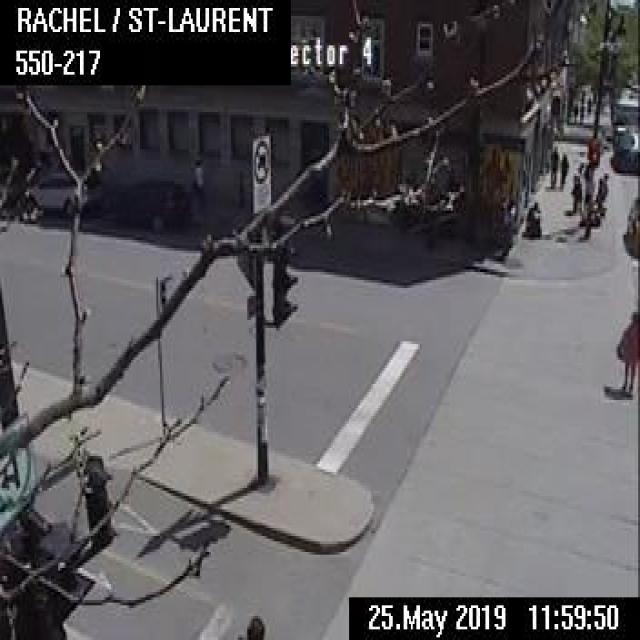pedestrian: (613, 307, 638, 397), (591, 168, 609, 227), (522, 198, 544, 237), (570, 159, 582, 210), (547, 145, 557, 185), (559, 151, 568, 186), (571, 98, 577, 122), (578, 98, 584, 122), (586, 93, 590, 115)
vehicle: (96, 177, 191, 229), (24, 166, 84, 212), (620, 192, 638, 264), (610, 126, 638, 171)
